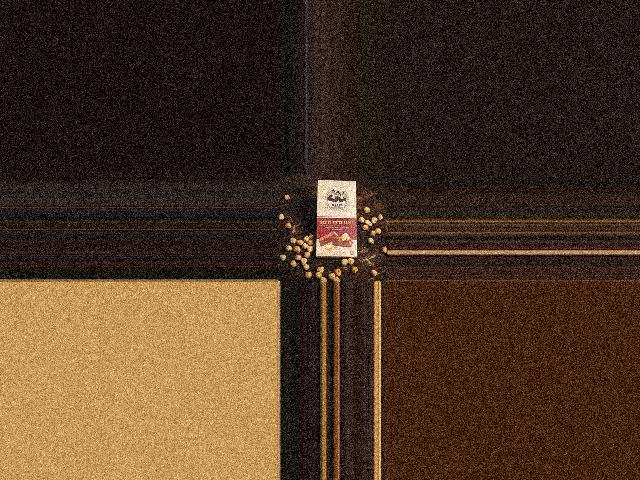chocolate: (312, 178, 359, 259)
